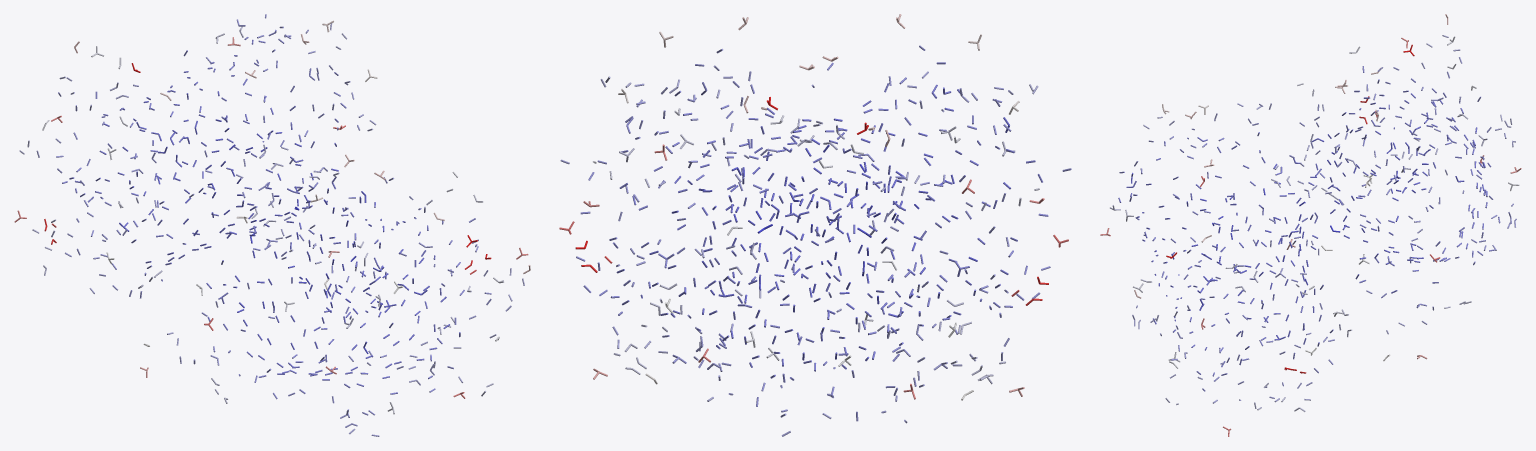
The model's file is 1gfl__lines__b-factor__H.glb.
3 renders of one model, left to right at view 1: azimuth 30°, elevation 25°; view 2: azimuth 150°, elevation 25°; view 3: azimuth 270°, elevation 25°, orthographic. The views are drawn at different scales.
Parts seen in each view (by area): view 1: Renderer Node; view 2: Renderer Node; view 3: Renderer Node.
Part boxes in pixels (left/top/right/bottom): Renderer Node: left=14, top=14, right=530, bottom=436; Renderer Node: left=559, top=14, right=1071, bottom=436; Renderer Node: left=1100, top=14, right=1521, bottom=436.
Bounding box in the file's own units: 62.6 × 52.2 × 61.7.
